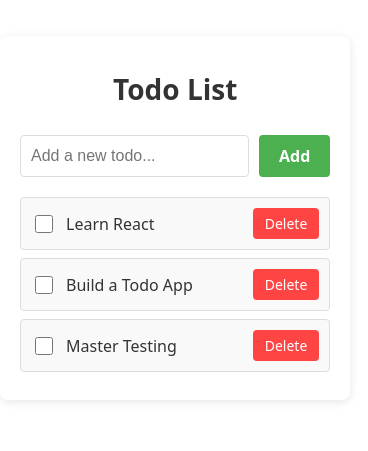
Scenario: TodoList Component › Toggling Todos › newly added todo is not marked as completed
Step 1. Type "New incomplete todo" into the field with test id "todo-input" → (134, 156), box [20,135,249,177]
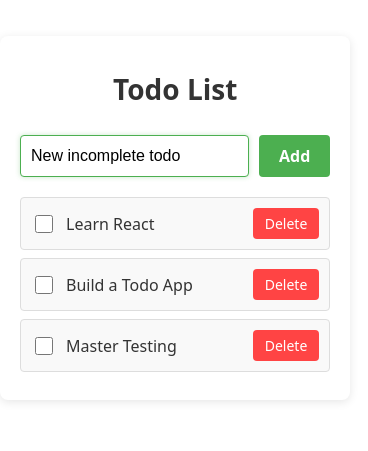
Step 2. Click the button with test id "add-button" → (295, 156), box [259,135,330,177]
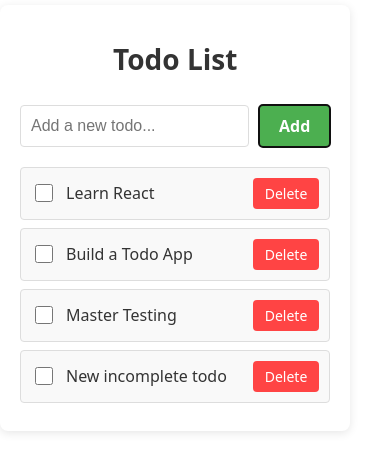
Check: the checkbox named "mark \"new incomplete todo\"" is not checked, box [35,367,53,385]
